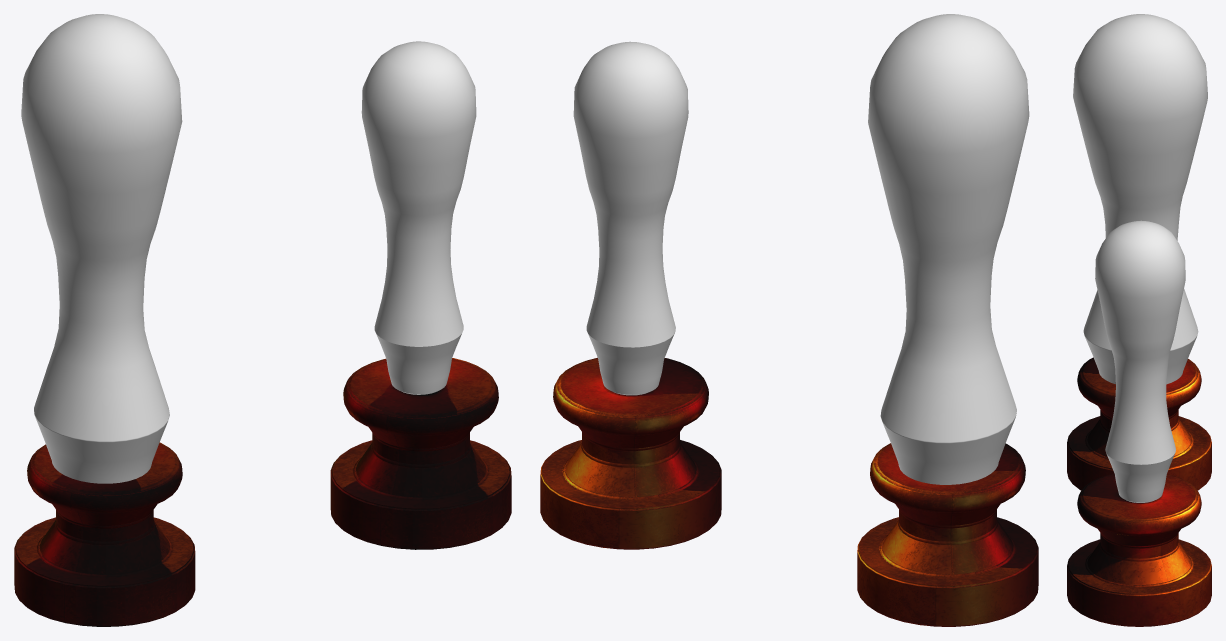
File: Carimbo (1).fbx
3 renders of one model, left to right at view 1: azimuth 30°, elevation 25°; view 2: azimuth 150°, elevation 25°; view 3: azimuth 270°, elevation 25°, orthographic. The views are drawn at different scales.
Parts seen in each view (by area): view 1: Sphere.008, Sphere.009, Circle.016, Circle.001; view 2: Sphere.008, Sphere.009, Circle.016, Circle.001; view 3: Sphere.008, Sphere.009, Circle.016, Circle.001.
Boxes of the visible parts, <box> form: Sphere.008: <box>21,14,182,483</box>; Sphere.009: <box>361,41,476,394</box>; Circle.016: <box>330,358,511,549</box>; Circle.001: <box>14,442,195,626</box>; Sphere.008: <box>868,14,1029,484</box>; Sphere.009: <box>573,41,688,395</box>; Circle.016: <box>540,357,721,549</box>; Circle.001: <box>857,443,1038,626</box>; Sphere.008: <box>1073,14,1207,384</box>; Sphere.009: <box>1095,220,1185,502</box>; Circle.016: <box>1067,473,1211,626</box>; Circle.001: <box>1067,357,1211,490</box>.
Bounding box in the file's own units: 27.69 × 32.01 × 9.19.
Materials: 2 (1 with a texture image).
